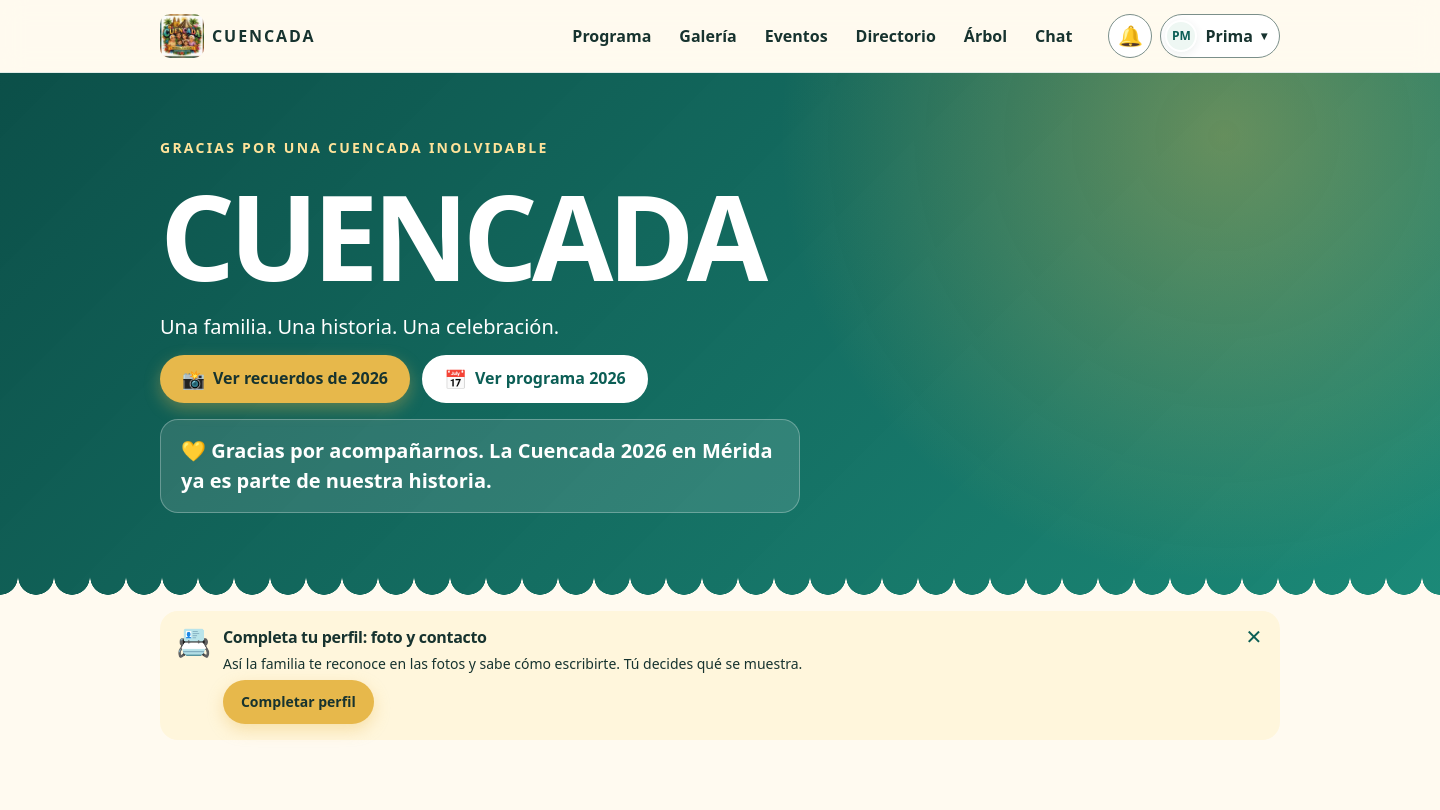
Test: AccountMenu › closes when focus tabs out past the last entry
Step 1. Click the button with aria-label "Mi cuenta" → coordinates (1220, 36), box [1160,14,1280,58]
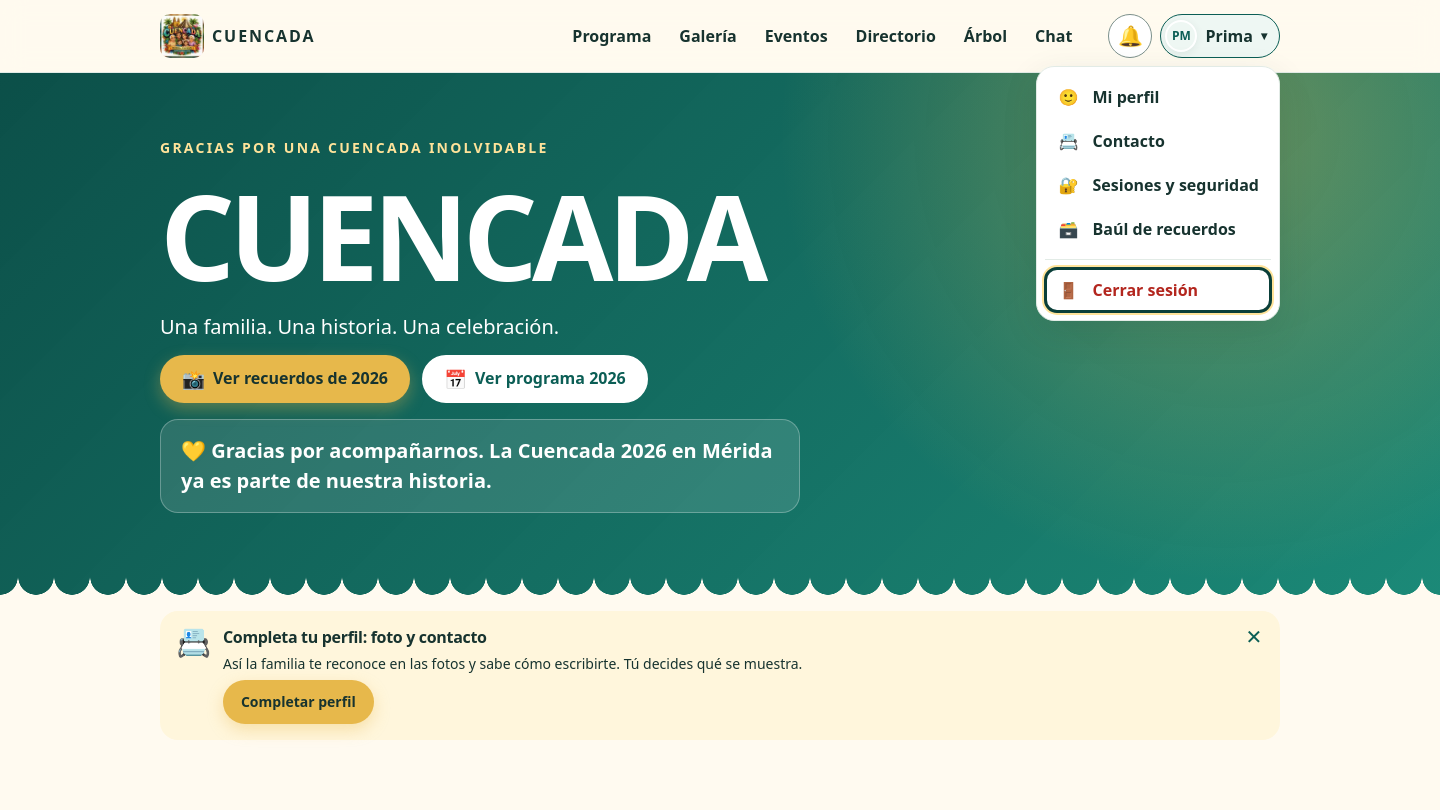
Step 2. Press Tab
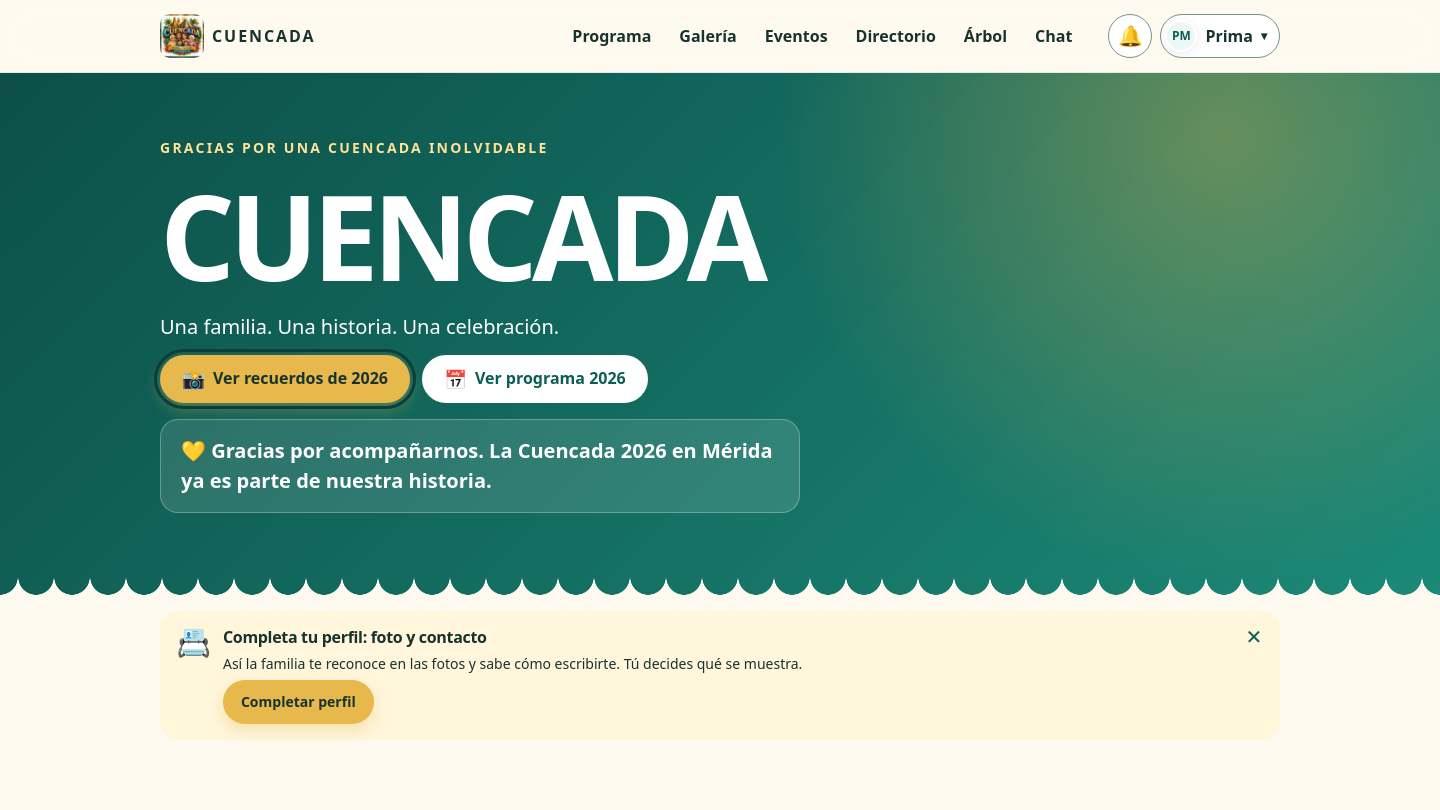
Now the button with aria-label "Mi cuenta" is collapsed, box [1160,14,1280,58]
